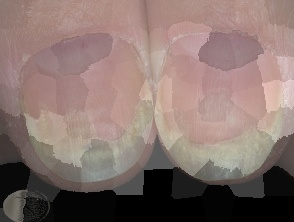Nail_psoriasis: (149, 80, 293, 186), (19, 86, 159, 186)
